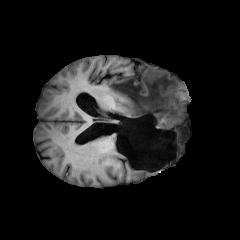glioma: (109, 64, 187, 126)
